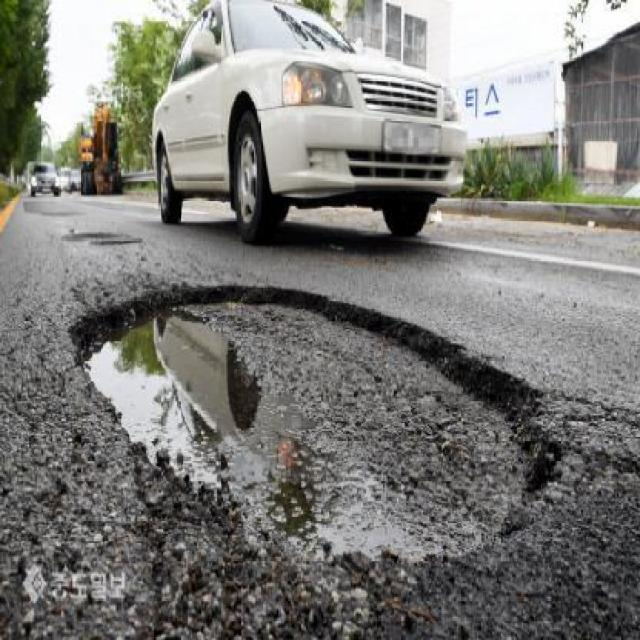Pothole: (69, 268, 566, 598)
